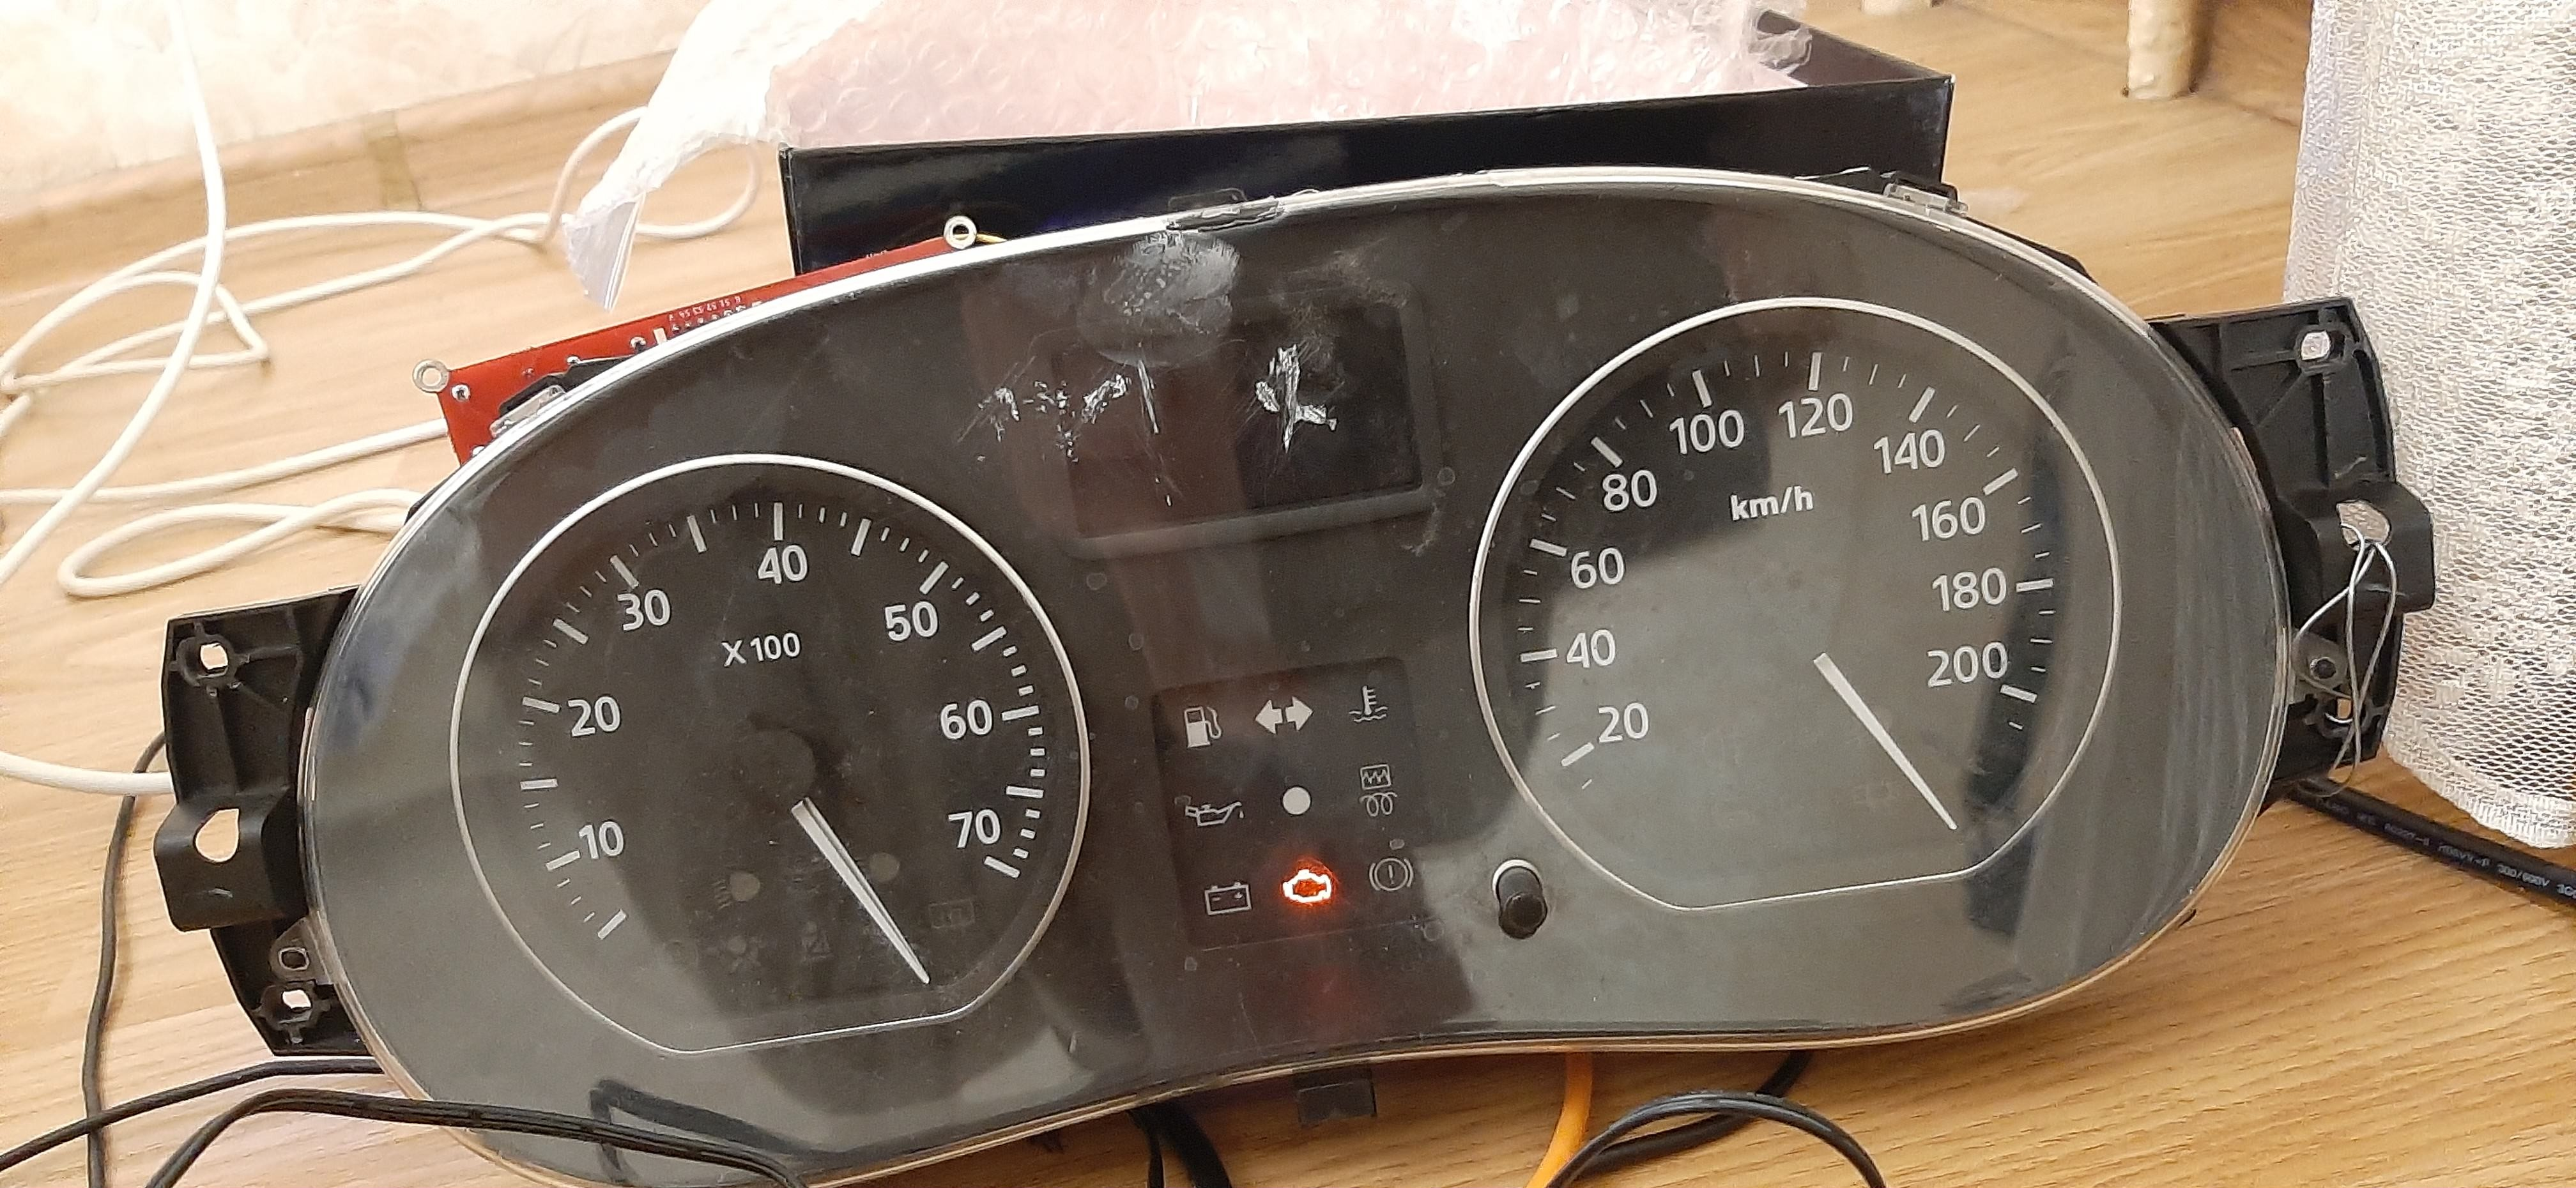engine11: (1280, 866, 1334, 905)
